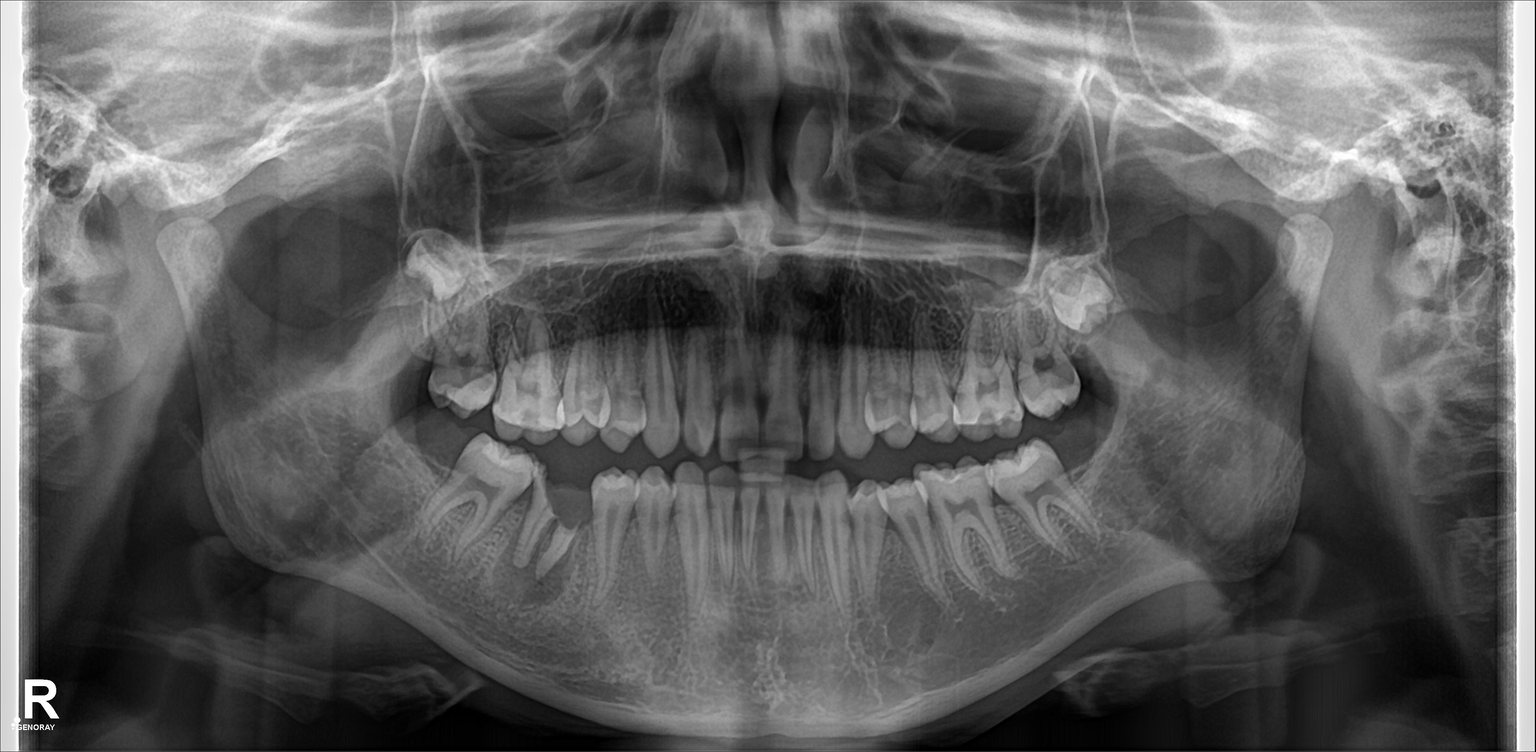Impacted Third Molar: (402, 240, 477, 300), (1058, 277, 1116, 340)
Missing Tooth: (1060, 411, 1122, 492), (410, 411, 451, 500)
Periapical Lesion: (492, 521, 590, 614)
Tooth Fracture: (536, 462, 587, 570)
